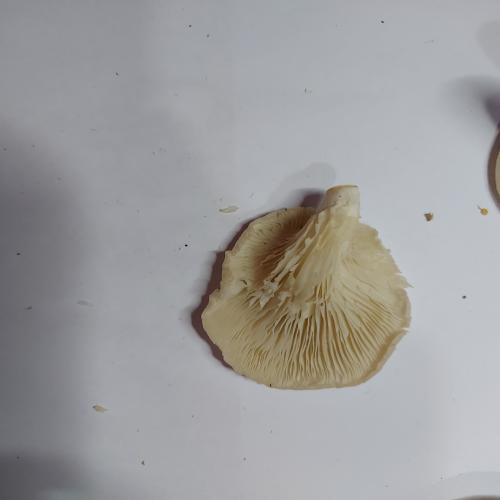Oyster Mushroom: (199, 184, 413, 391)
